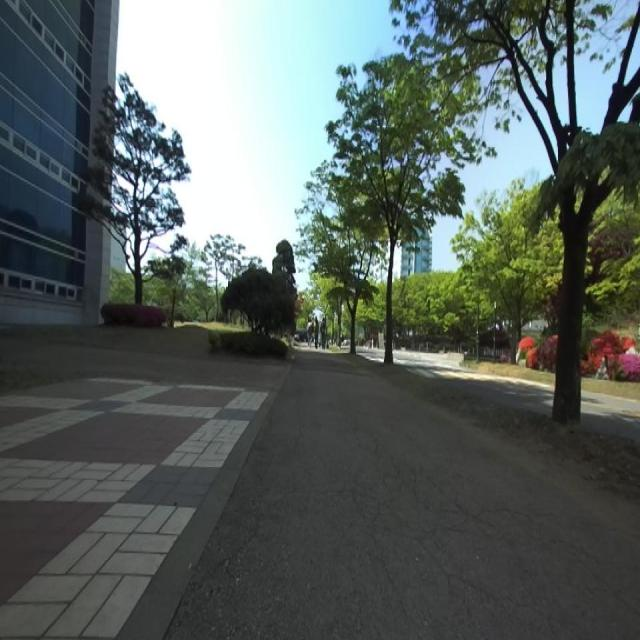sidewalk: (170, 350, 640, 638), (0, 337, 290, 639)
